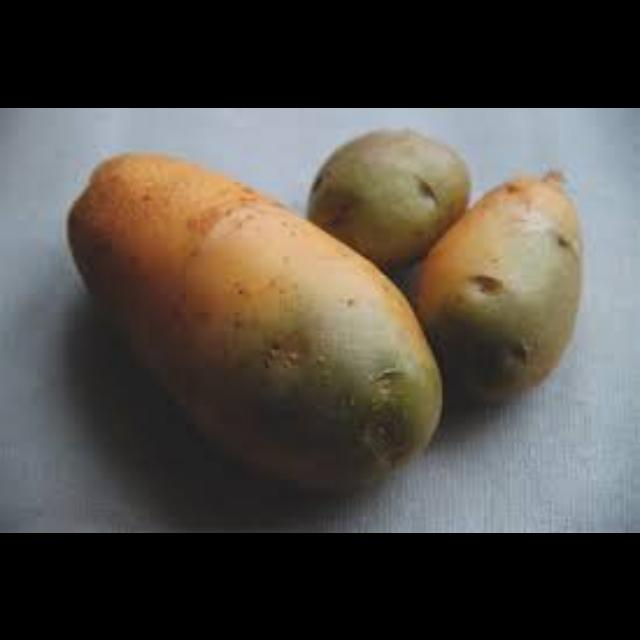Defected potato: (37, 142, 457, 506), (402, 156, 592, 408), (293, 116, 475, 260)
